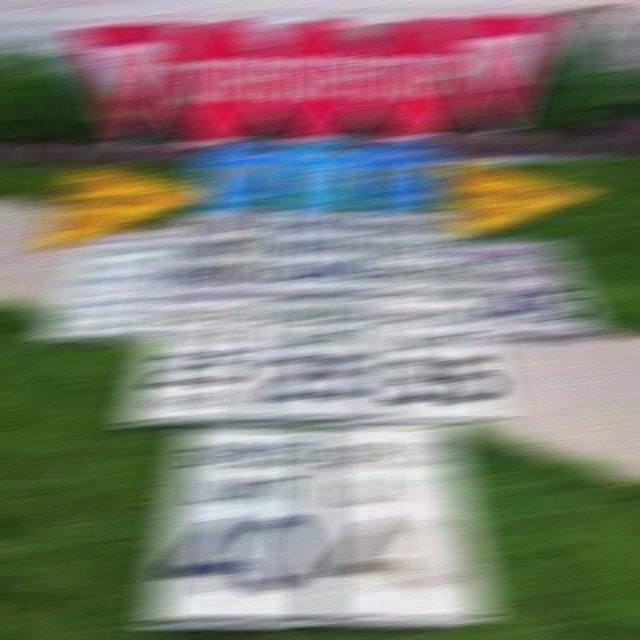speedLimit25: (264, 292, 388, 434)
speedLimit35: (364, 296, 508, 420)
speedLimit40: (138, 420, 324, 622), (312, 427, 481, 609)
speedLimit45: (462, 234, 596, 344)
